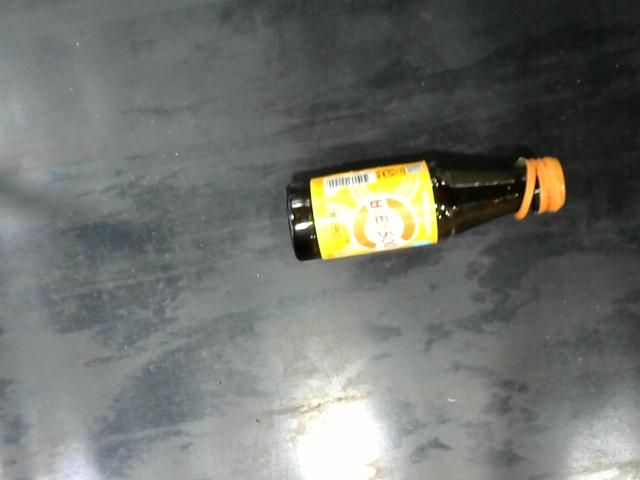glass: (286, 154, 567, 262)
